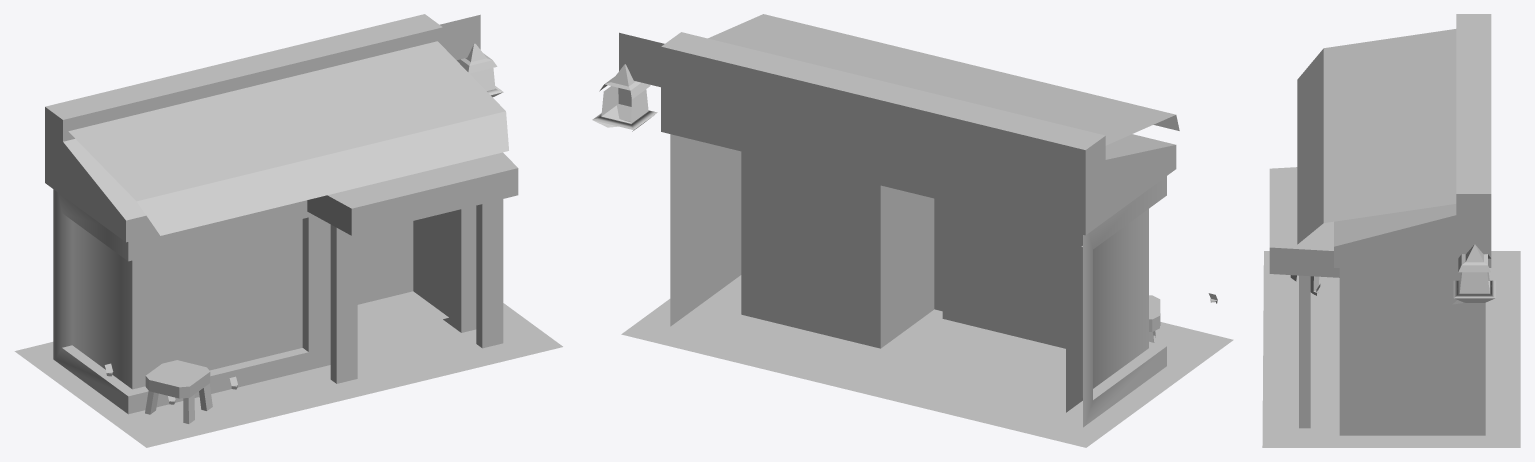
Rendered from Cafe Warehouse.obj.
3 views of the same model, side by side, from view 1: azimuth 30°, elevation 25°; view 2: azimuth 150°, elevation 25°; view 3: azimuth 270°, elevation 25° (orthographic). The views are drawn at different scales.
Parts seen in each view (by area): view 1: polygon7, polygon9, polygon6, polygon10, polygon8; view 2: polygon7, polygon9, polygon6, polygon4, polygon8, polygon5; view 3: polygon7, polygon9, polygon6, polygon8, polygon5.
Part boxes in pixels (x1=…): polygon7: x1=45, y1=14, x2=518, y2=339; polygon9: x1=53, y1=14, x2=503, y2=414; polygon6: x1=14, y1=303, x2=562, y2=447; polygon10: x1=145, y1=360, x2=212, y2=423; polygon8: x1=457, y1=43, x2=503, y2=97; polygon7: x1=661, y1=14, x2=1179, y2=348; polygon9: x1=619, y1=32, x2=1166, y2=427; polygon6: x1=621, y1=275, x2=1233, y2=447; polygon4: x1=942, y1=200, x2=1082, y2=412; polygon8: x1=592, y1=64, x2=657, y2=131; polygon5: x1=601, y1=86, x2=648, y2=123; polygon7: x1=1269, y1=14, x2=1491, y2=277; polygon9: x1=1299, y1=268, x2=1485, y2=435; polygon6: x1=1262, y1=251, x2=1520, y2=447; polygon8: x1=1452, y1=244, x2=1495, y2=304; polygon5: x1=1459, y1=272, x2=1489, y2=293.
Size of the model in its own units: 89.9 by 47.01 by 44.25.
